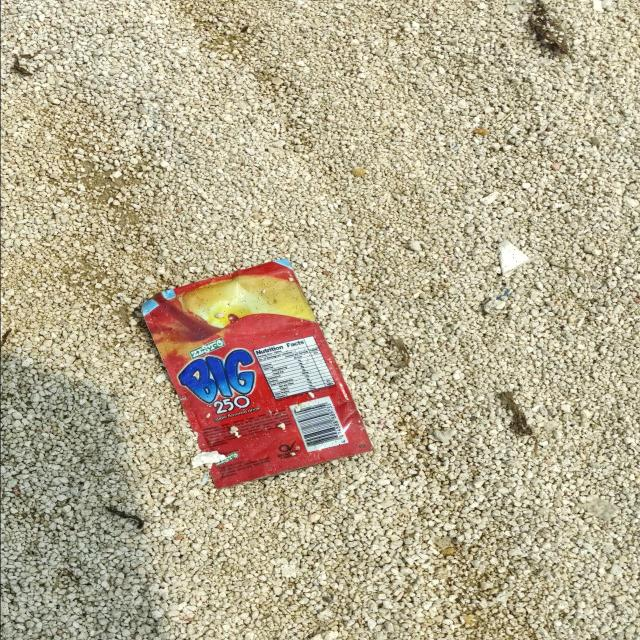plastic_waste: (139, 260, 376, 492)
